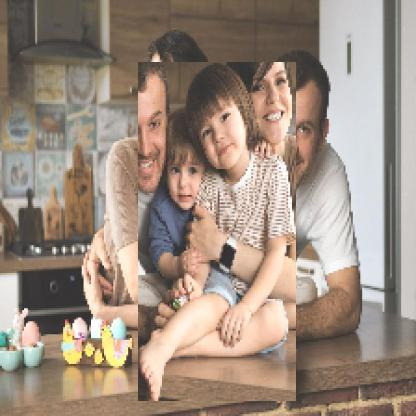child: (139, 63, 298, 403), (228, 107, 287, 305)
